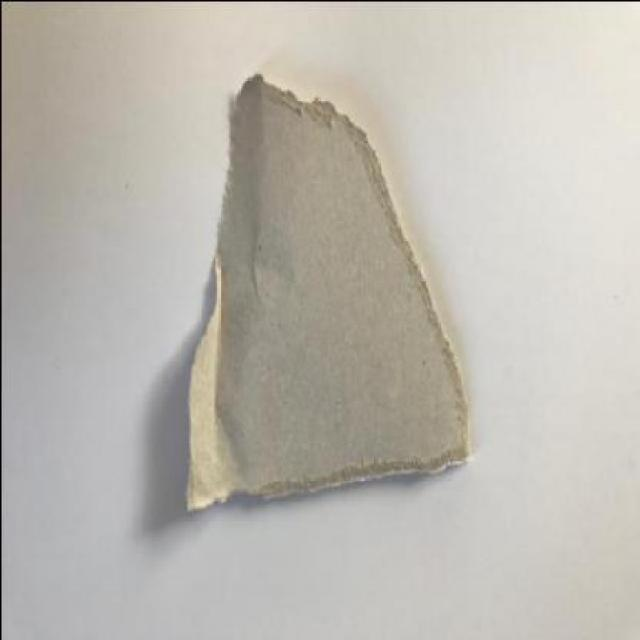box: (185, 70, 471, 513)
